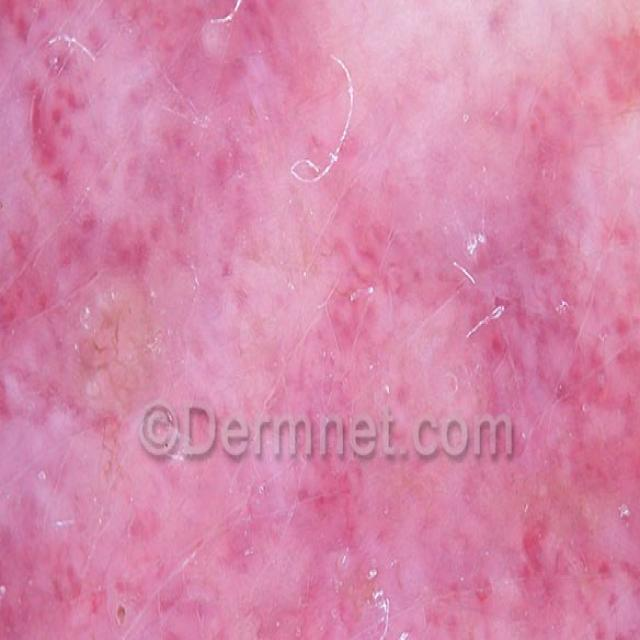Vascular Tumors: (0, 46, 640, 640)
